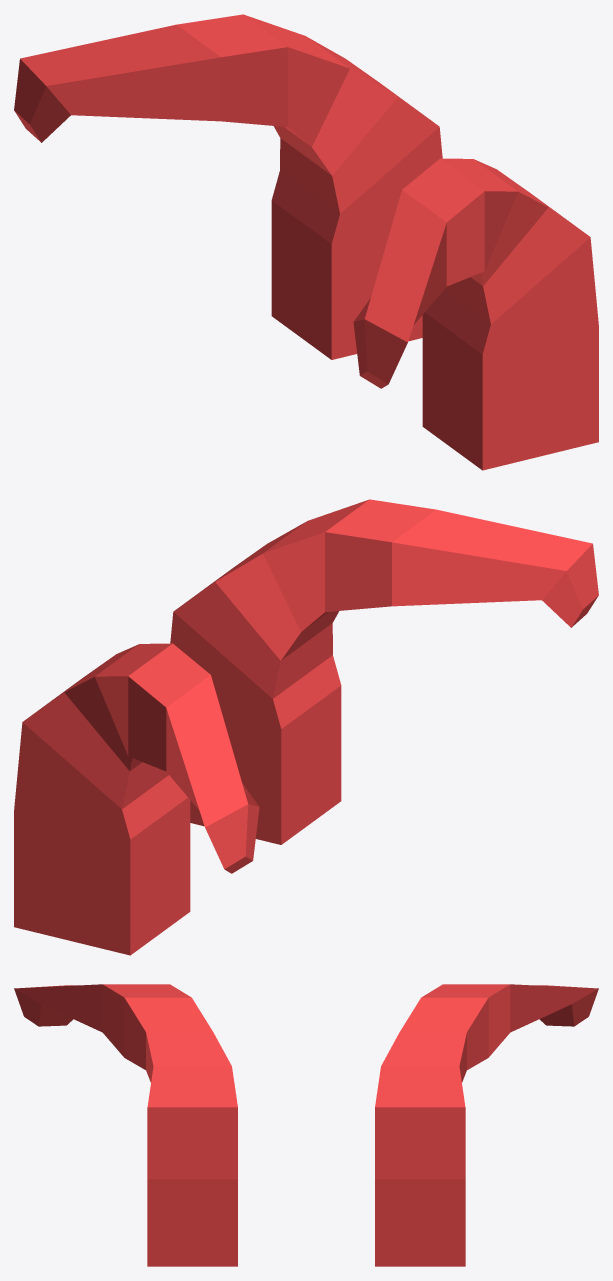
File: Horns 1.fbx
3 renders of one model, top to bottom at view 1: azimuth 30°, elevation 25°; view 2: azimuth 150°, elevation 25°; view 3: azimuth 270°, elevation 25°, orthographic. The views are drawn at different scales.
Parts seen in each view (by area): view 1: Cube; view 2: Cube; view 3: Cube.
Part boxes in pixels (bbox=[...]): Cube: bbox=[14, 14, 598, 470]; Cube: bbox=[14, 499, 598, 955]; Cube: bbox=[14, 984, 598, 1266].
Bounding box in the file's own units: 95.33 × 90.75 × 217.
